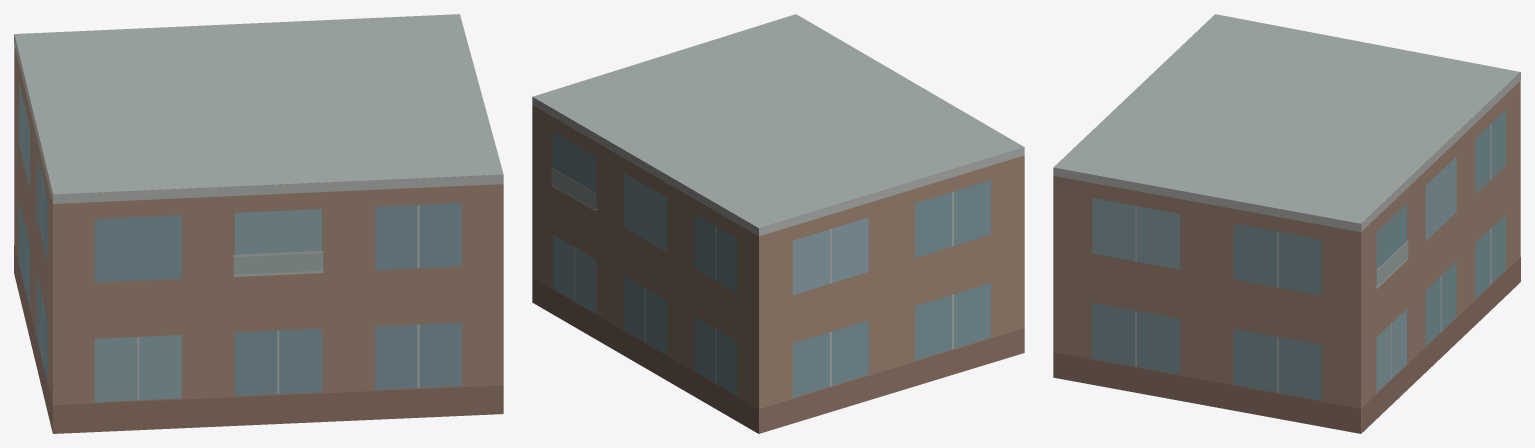
Rendered from survey-upis-32720979.glb.
3 renders of one model, left to right at view 1: azimuth 30°, elevation 25°; view 2: azimuth 150°, elevation 25°; view 3: azimuth 270°, elevation 25°, orthographic. The views are drawn at different scales.
Visible parts, largest first — view 1: survey-upis-32720979.tmp; view 2: survey-upis-32720979.tmp; view 3: survey-upis-32720979.tmp.
Boxes of the visible parts, x1,y1,x2,y2 form: survey-upis-32720979.tmp: (14,14,503,433); survey-upis-32720979.tmp: (532,14,1024,433); survey-upis-32720979.tmp: (1053,14,1520,433).
Size of the model in its own units: 13.07 by 6.1 by 12.31.
